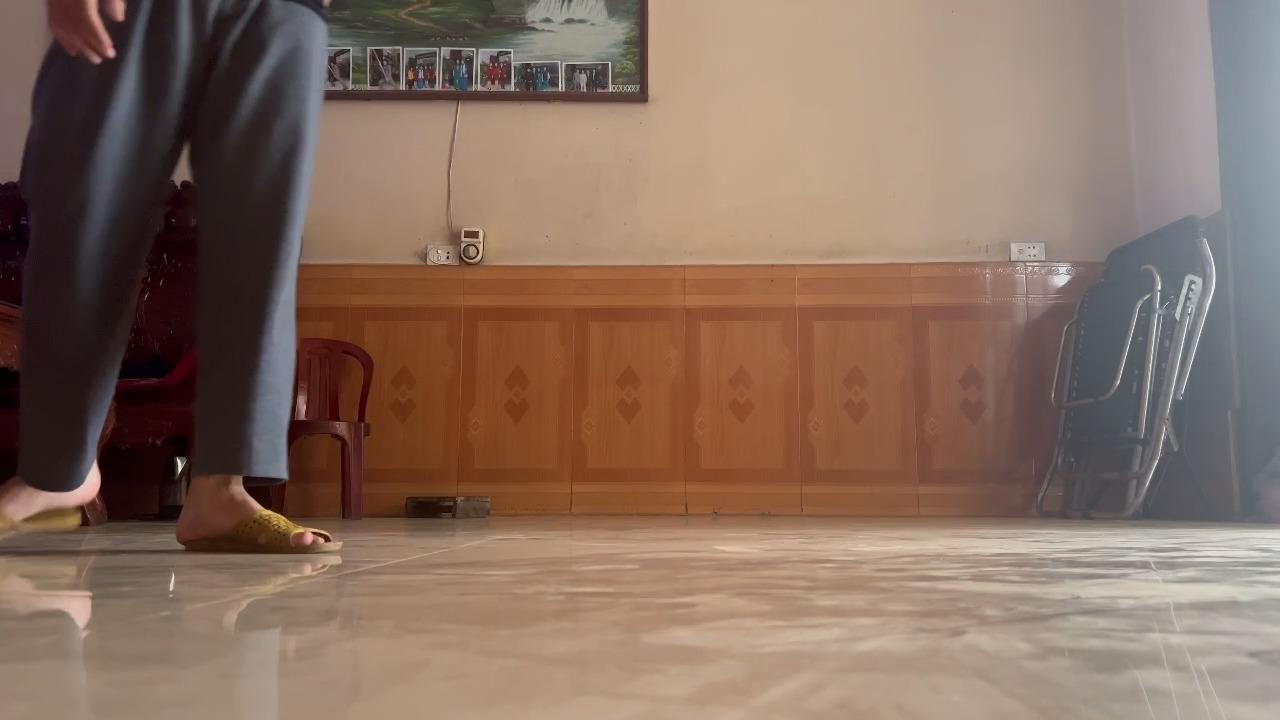no-boot: (163, 486, 352, 565), (0, 466, 123, 548)
